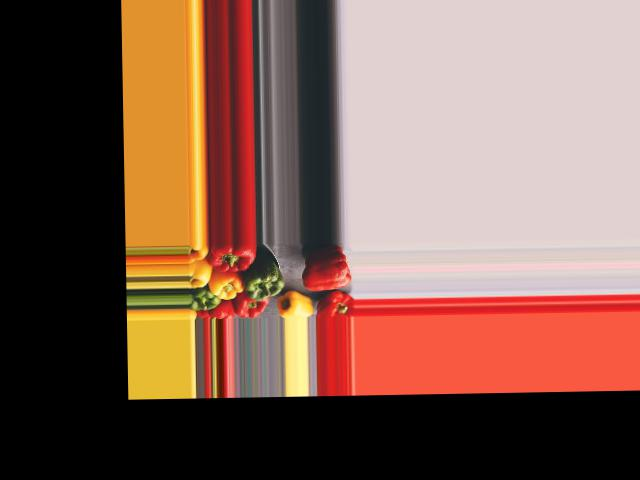bell_pepper: (316, 291, 355, 314)
